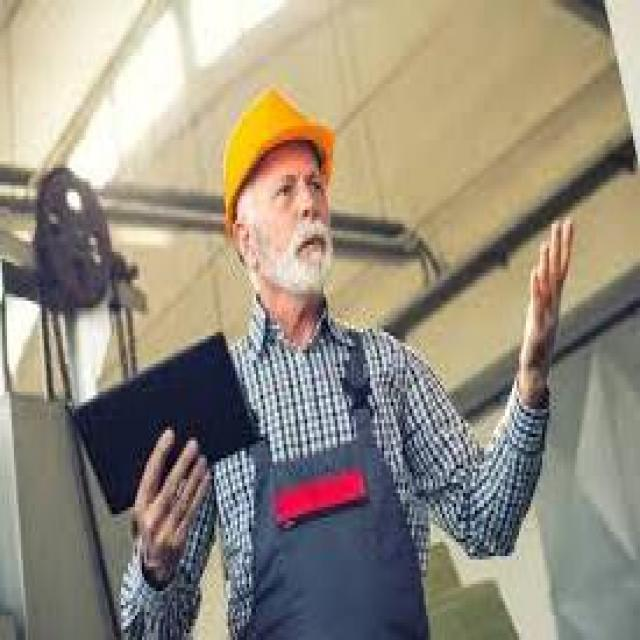safety_helmet: (214, 80, 346, 220)
